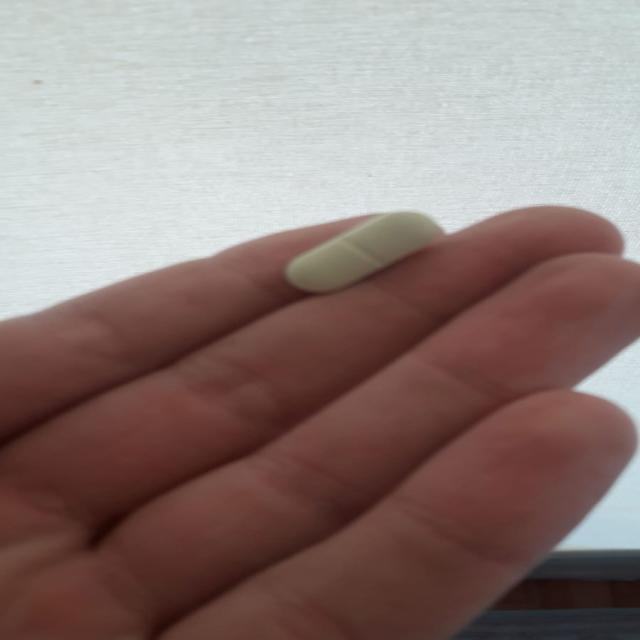pills: (278, 191, 450, 300)
